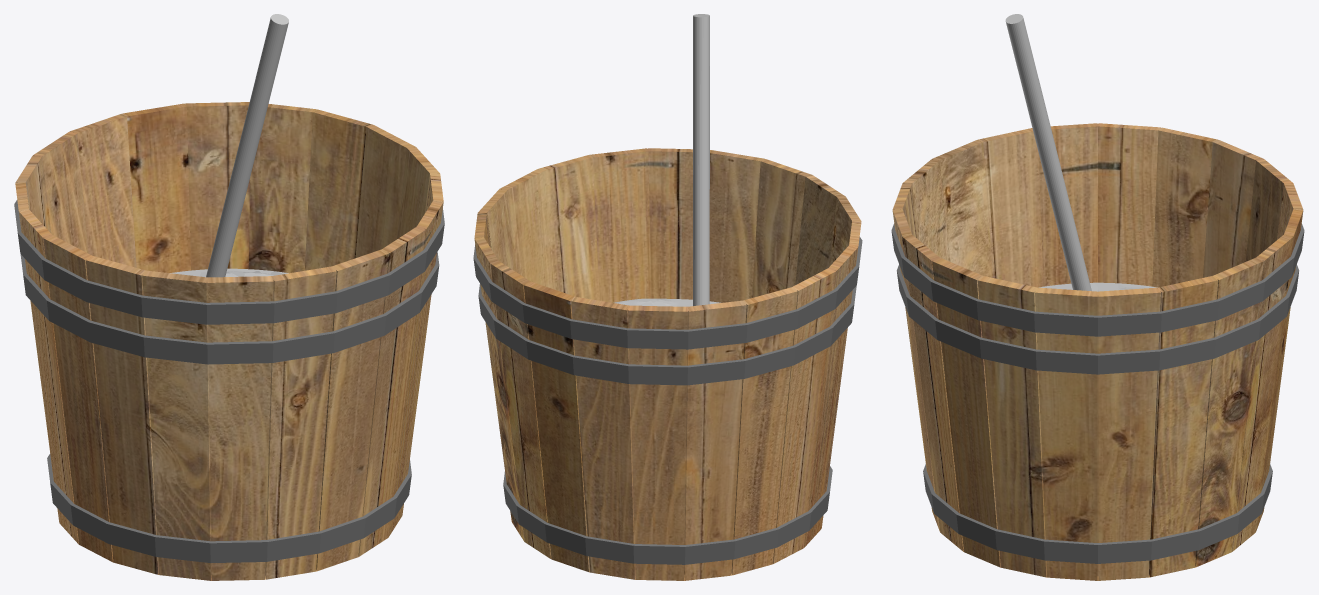
The model's file is 完成樽.fbx.
3 views of the same model, side by side, from view 1: azimuth 30°, elevation 25°; view 2: azimuth 150°, elevation 25°; view 3: azimuth 270°, elevation 25° (orthographic). The views are drawn at different scales.
Visible parts, largest first — view 1: 円柱.001, 金属部分, 円, 3cm頂点; view 2: 円柱.001, 金属部分, 円, 3cm頂点; view 3: 円柱.001, 金属部分, 円, 3cm頂点.
Part boxes in pixels (x1,y1,x2,y2): 円柱.001: (15, 102, 443, 580); 金属部分: (14, 200, 444, 563); 円: (206, 14, 288, 277); 3cm頂点: (170, 268, 288, 277); 円柱.001: (474, 148, 861, 580); 金属部分: (473, 236, 862, 564); 円: (693, 14, 709, 305); 3cm頂点: (613, 298, 720, 306); 円柱.001: (892, 123, 1303, 580); 金属部分: (891, 223, 1304, 563); 円: (1005, 14, 1091, 290); 3cm頂点: (1039, 282, 1157, 291).
Bounding box in the file's own units: 249 × 330 × 249.
